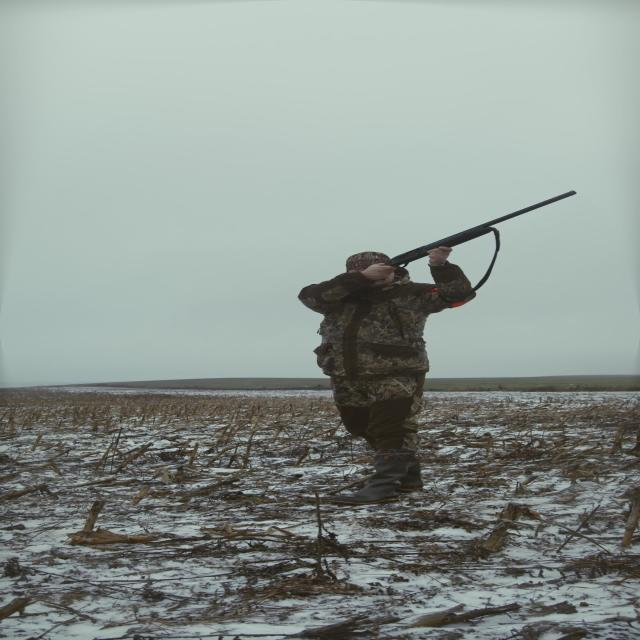Hunter: (296, 240, 479, 490)
Rifle: (387, 188, 588, 271)
